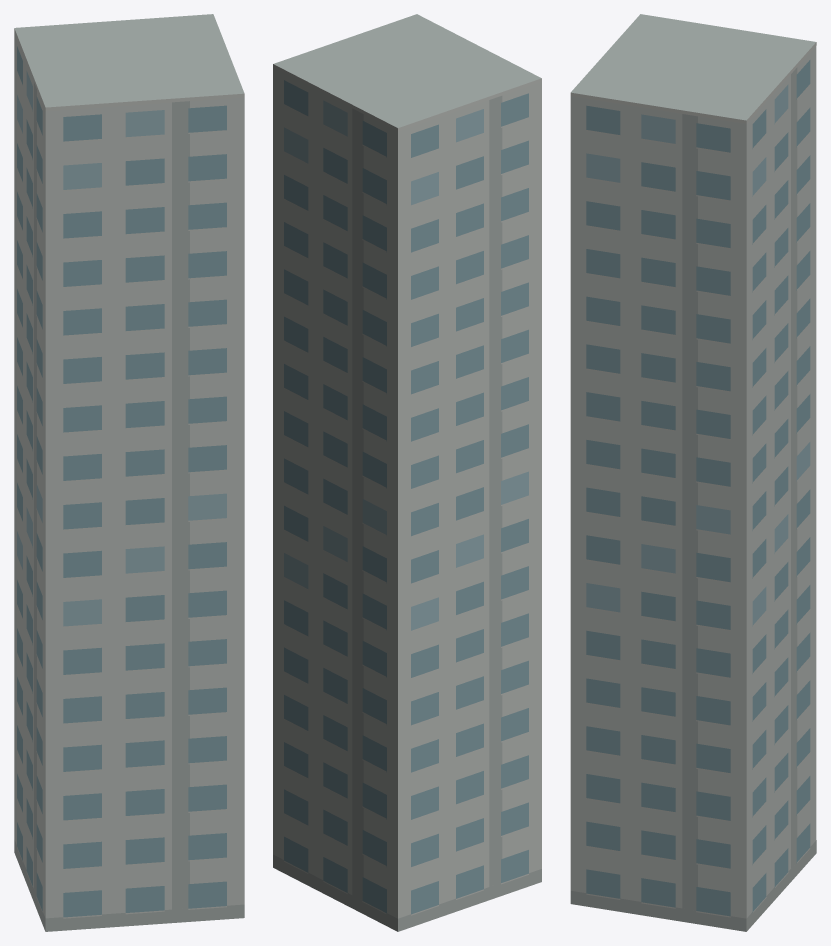
Rendered from residential-12f2a855-77cd-4c25-92d0-cd04cc77c954.glb.
3 renders of one model, left to right at view 1: azimuth 30°, elevation 25°; view 2: azimuth 150°, elevation 25°; view 3: azimuth 270°, elevation 25°, orthographic. The views are drawn at different scales.
Parts seen in each view (by area): view 1: residential-12f2a855-77cd-4c25-92d0-cd04cc77c954.tmp; view 2: residential-12f2a855-77cd-4c25-92d0-cd04cc77c954.tmp; view 3: residential-12f2a855-77cd-4c25-92d0-cd04cc77c954.tmp.
Part boxes in pixels (x1=…): residential-12f2a855-77cd-4c25-92d0-cd04cc77c954.tmp: x1=14, y1=14, x2=244, y2=931; residential-12f2a855-77cd-4c25-92d0-cd04cc77c954.tmp: x1=273, y1=14, x2=541, y2=931; residential-12f2a855-77cd-4c25-92d0-cd04cc77c954.tmp: x1=570, y1=14, x2=816, y2=931.
Size of the model in its own units: 15.49 by 55 by 15.12.
